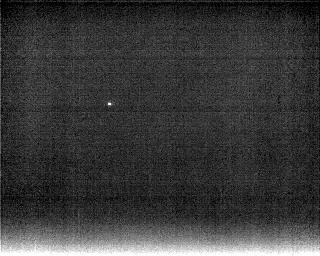BIRD: (106, 99, 114, 108)
